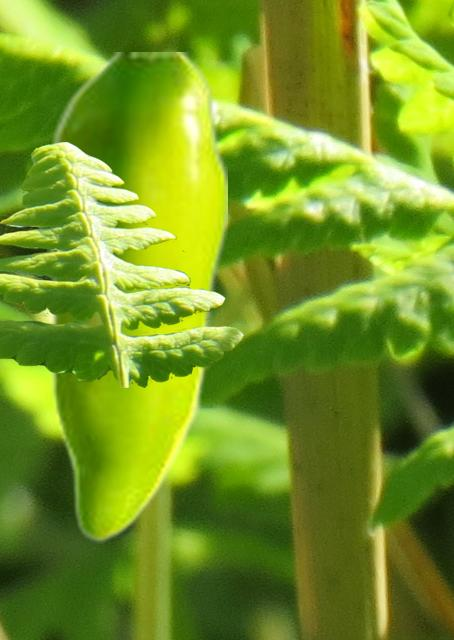green_chili: (47, 52, 226, 542)
